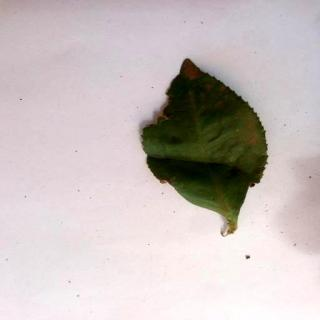Algal Leaf: (141, 56, 268, 236)
